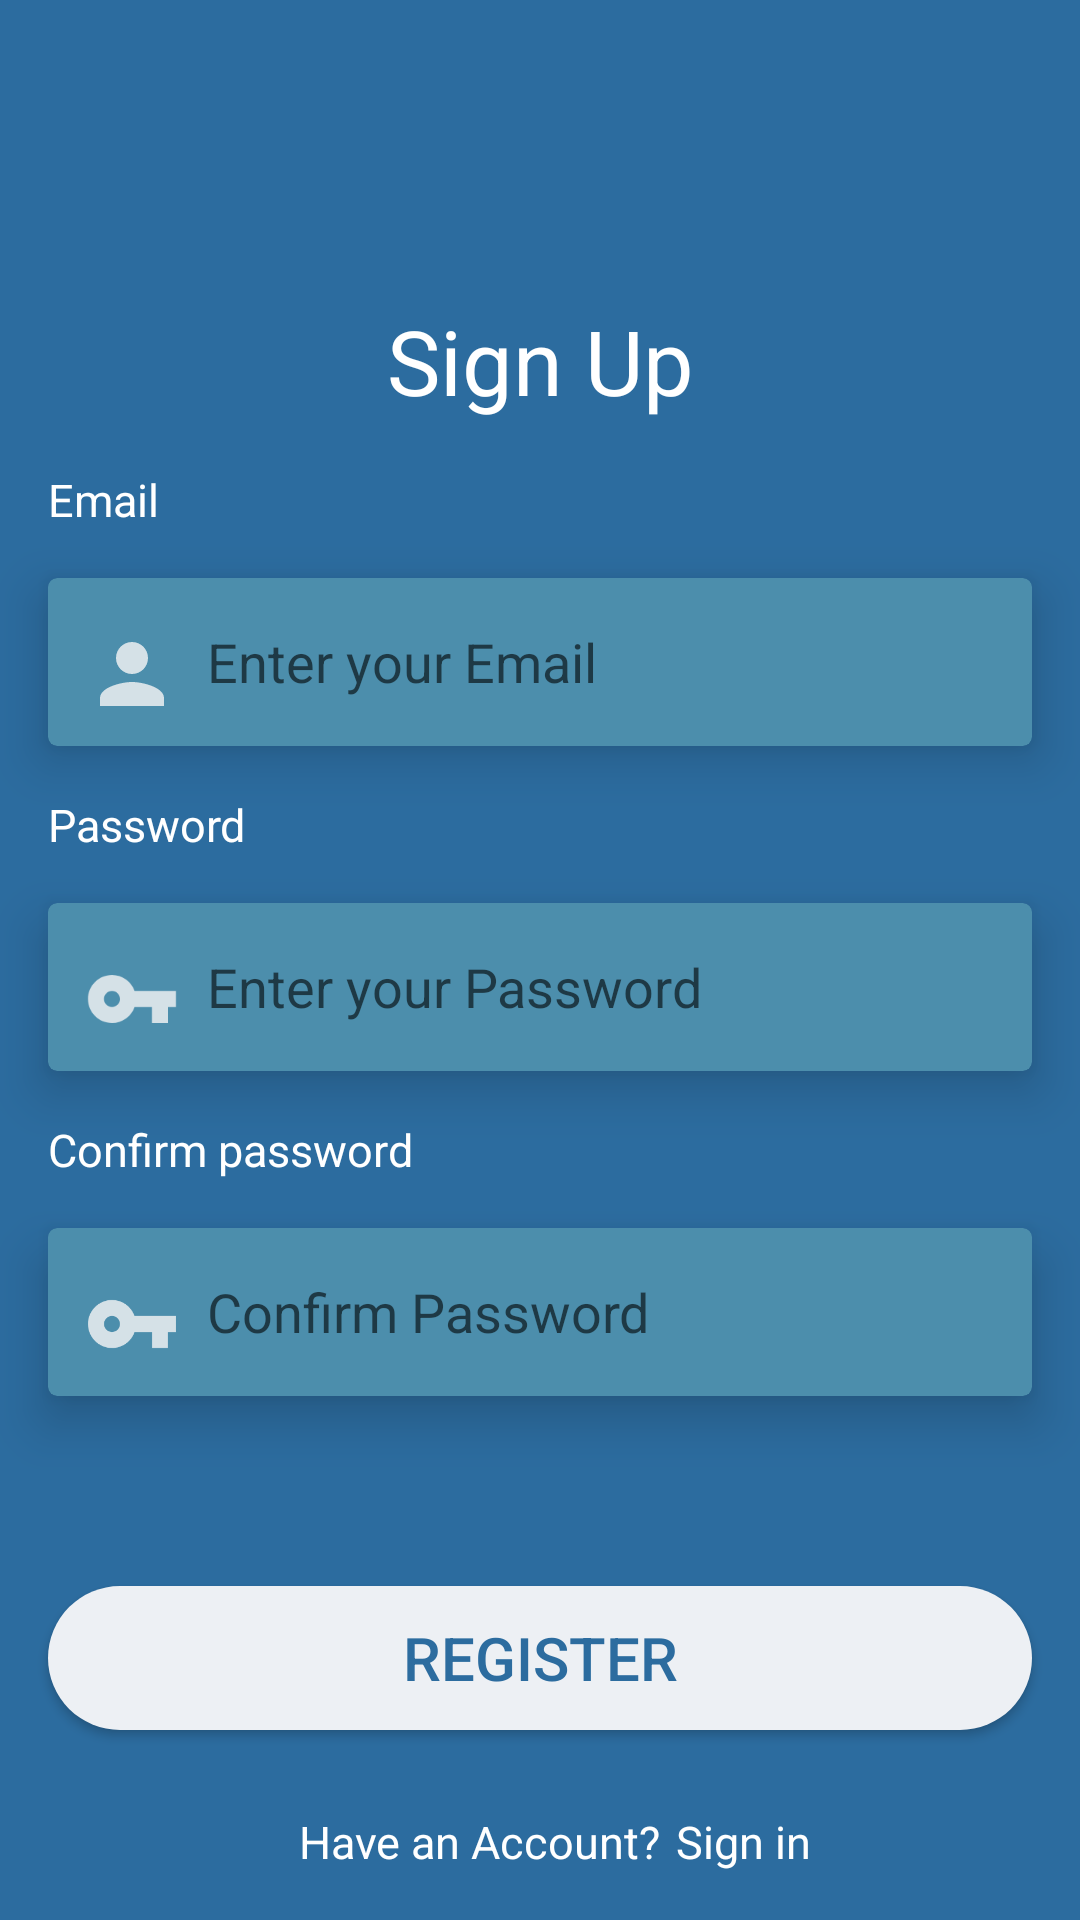

Screen size 1080 × 1920. Icon name, then its center in pixels as [x,y]:
person: [132,674]
vpn key: [132,999], [132,1324]
